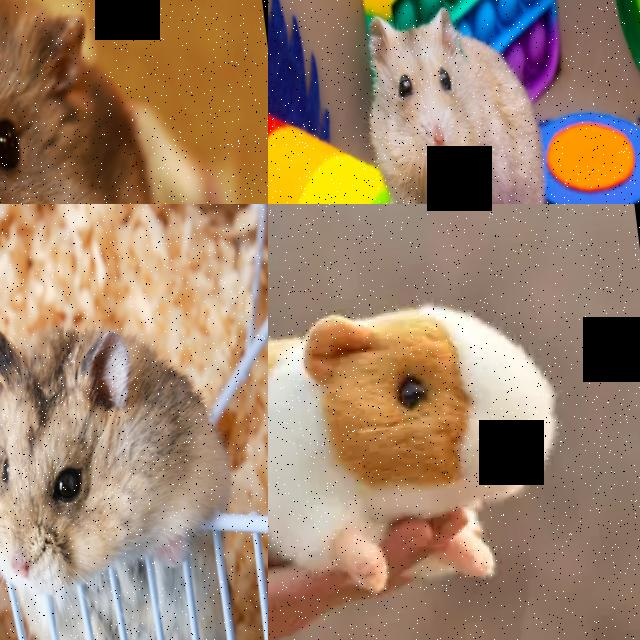hamster: (268, 286, 578, 622), (0, 296, 253, 640), (348, 0, 556, 204), (0, 0, 172, 204)
